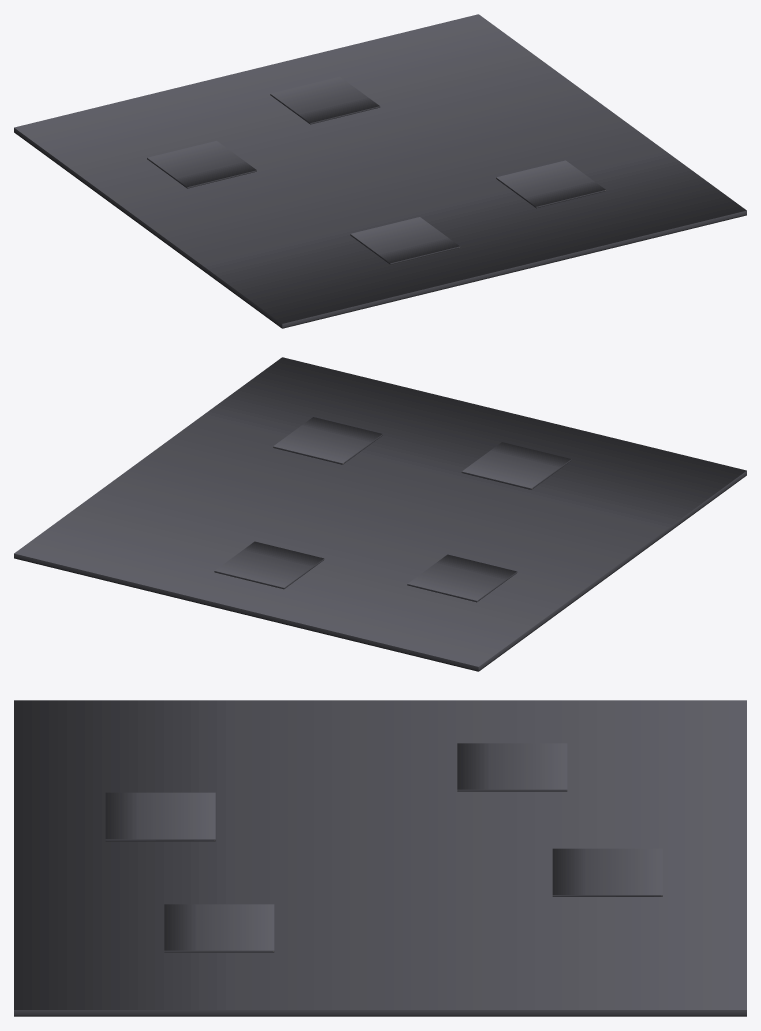
Rendered from ground_cobble.gltf.
The picture shows the model from 3 angles, top to bottom: view 1: azimuth 30°, elevation 25°; view 2: azimuth 150°, elevation 25°; view 3: azimuth 270°, elevation 25°; orthographic projection. The views are drawn at different scales.
Visible parts, largest first — view 1: ground_cobble; view 2: ground_cobble; view 3: ground_cobble.
Boxes of the visible parts, x1,y1,x2,y2 form: ground_cobble: (14,14,746,328); ground_cobble: (14,357,746,671); ground_cobble: (14,700,746,1016).
Bounding box in the file's own units: 1 × 0.013 × 1.
1 material, 1 textured.
